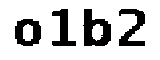1: (47, 7, 78, 50)
2: (118, 8, 149, 50)
b: (83, 6, 114, 49)
o: (13, 18, 45, 48)
